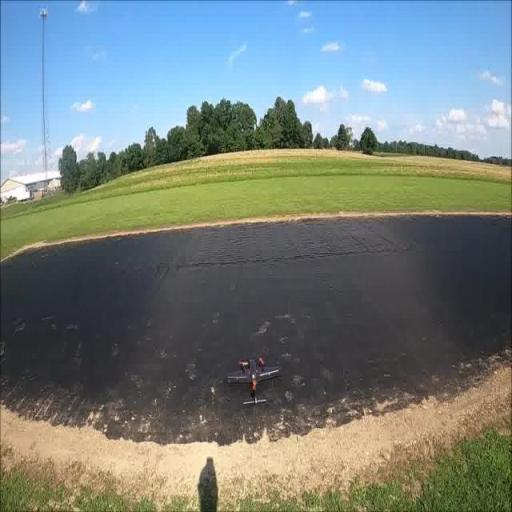uav: (225, 350, 281, 416)
